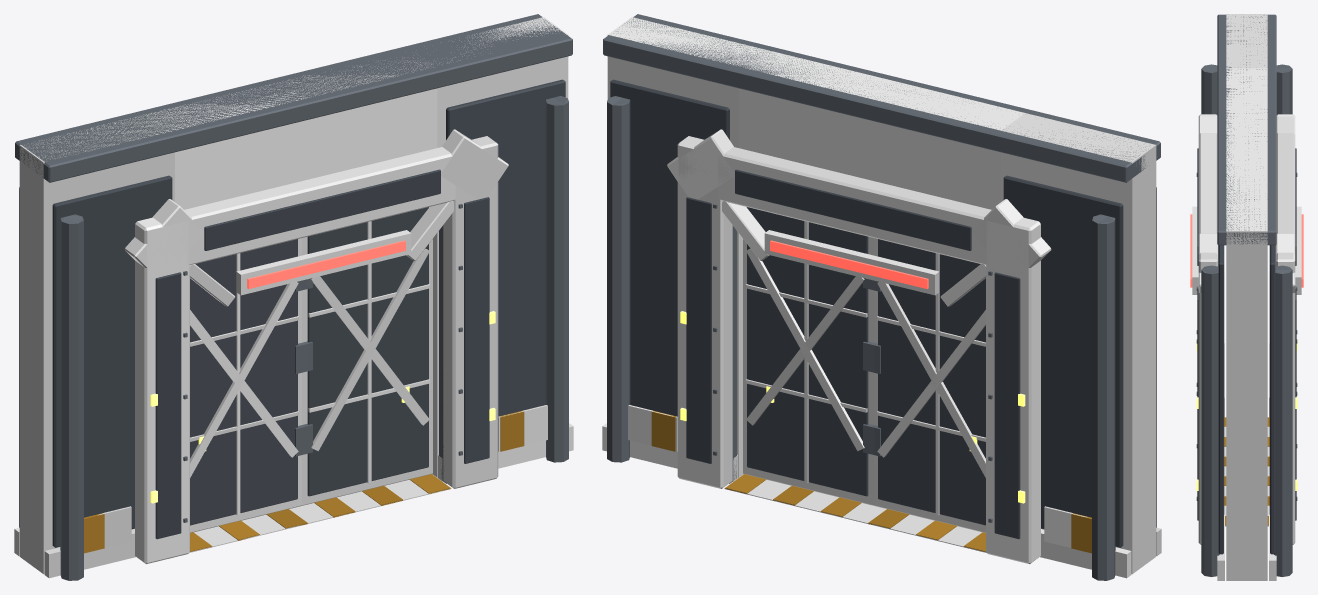
Rendered from Gate_Blast.fbx.
The picture shows the model from 3 angles, left to right: view 1: azimuth 30°, elevation 25°; view 2: azimuth 150°, elevation 25°; view 3: azimuth 270°, elevation 25°; orthographic projection. The views are drawn at different scales.
Visible parts, largest first — view 1: Gate_Blast, Gate_Blast_Leaf_R, Gate_Blast_Leaf_L; view 2: Gate_Blast, Gate_Blast_Leaf_R, Gate_Blast_Leaf_L; view 3: Gate_Blast.
Boxes of the visible parts, box(x1,y1,x2,y2) form: Gate_Blast: box(14, 14, 573, 580); Gate_Blast_Leaf_R: box(301, 207, 432, 505); Gate_Blast_Leaf_L: box(190, 238, 307, 532); Gate_Blast: box(602, 14, 1161, 580); Gate_Blast_Leaf_R: box(743, 207, 874, 505); Gate_Blast_Leaf_L: box(870, 238, 985, 532); Gate_Blast: box(1190, 14, 1303, 580).
Size of the model in its own units: 8 by 6 by 1.76.
